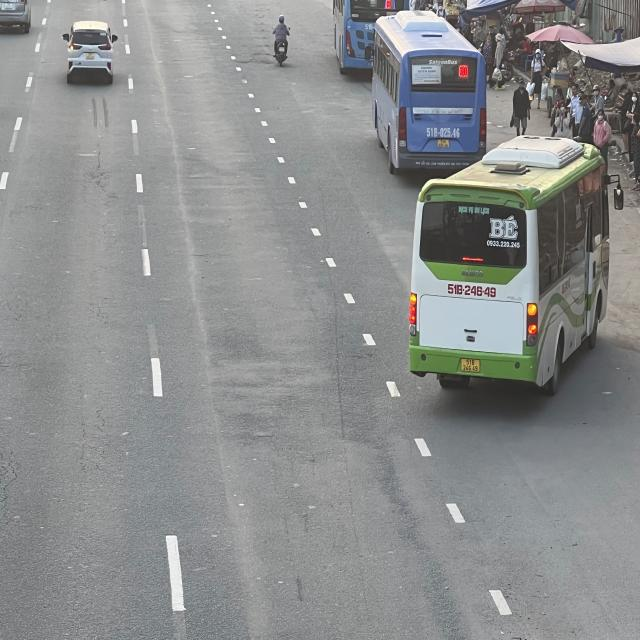car: (60, 21, 117, 87)
coach: (416, 135, 616, 397), (372, 14, 487, 172), (334, 0, 388, 72)
